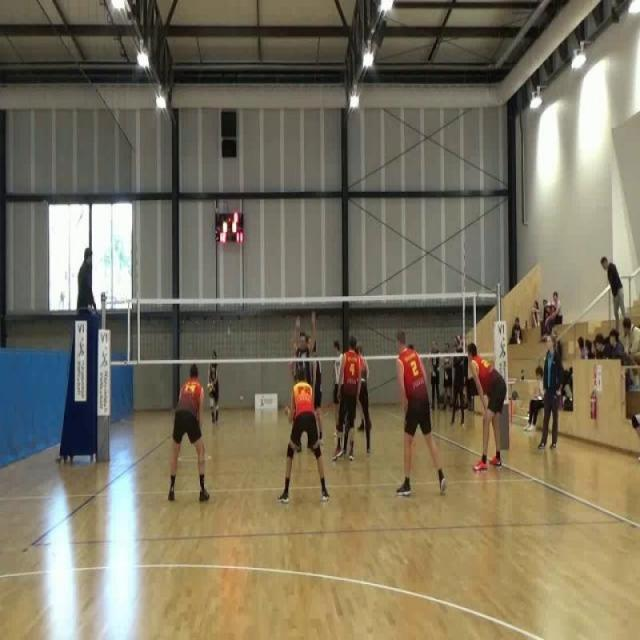volleyball: (206, 382, 214, 394)
